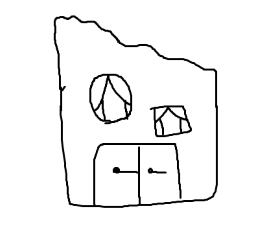door: (87, 138, 188, 211)
open_window: (86, 71, 135, 129), (146, 102, 194, 139)
single_line_roof: (48, 11, 223, 73)
wall: (53, 72, 224, 212)
